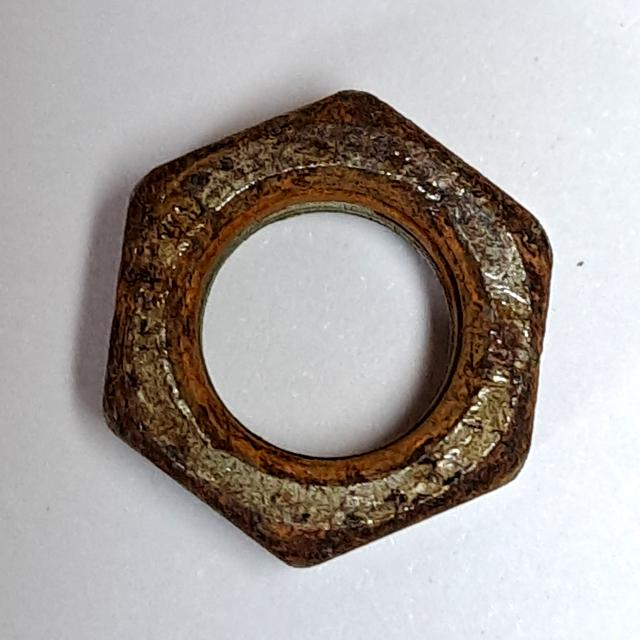Rust: (87, 81, 566, 581)
